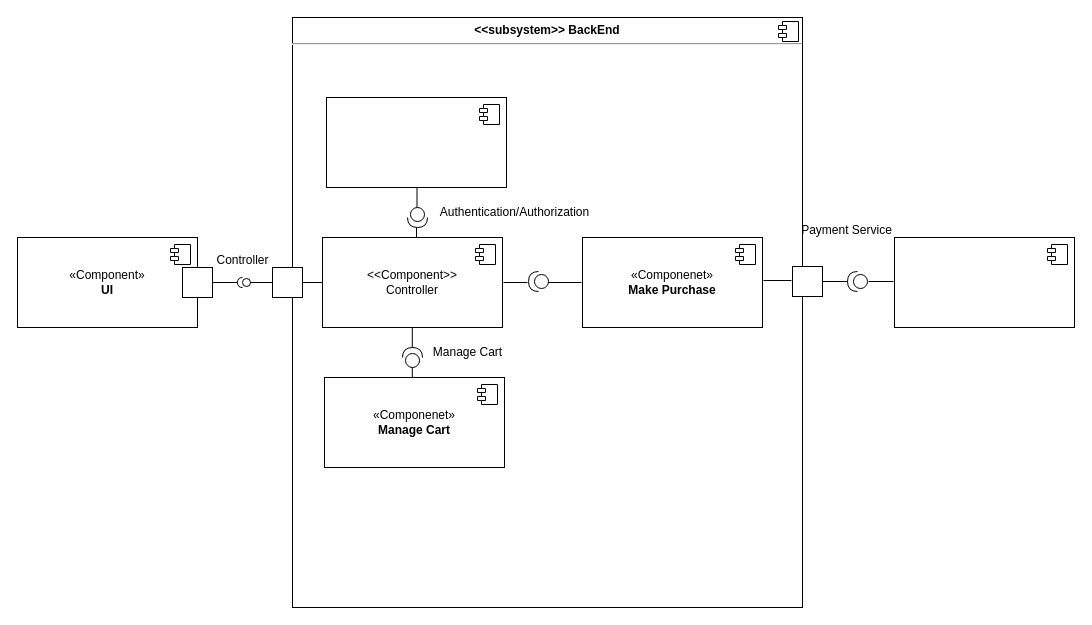
Some shapes in this 1092 by 625 pixel diagram are drawn without their labels. Here are the shapes that lost their labels. From the top down, the centre of each, then its label:
At point 416,142: "<<Componenet>> Authentication/Authorization".
At point 984,282: "«Componenet» Payment Service".
